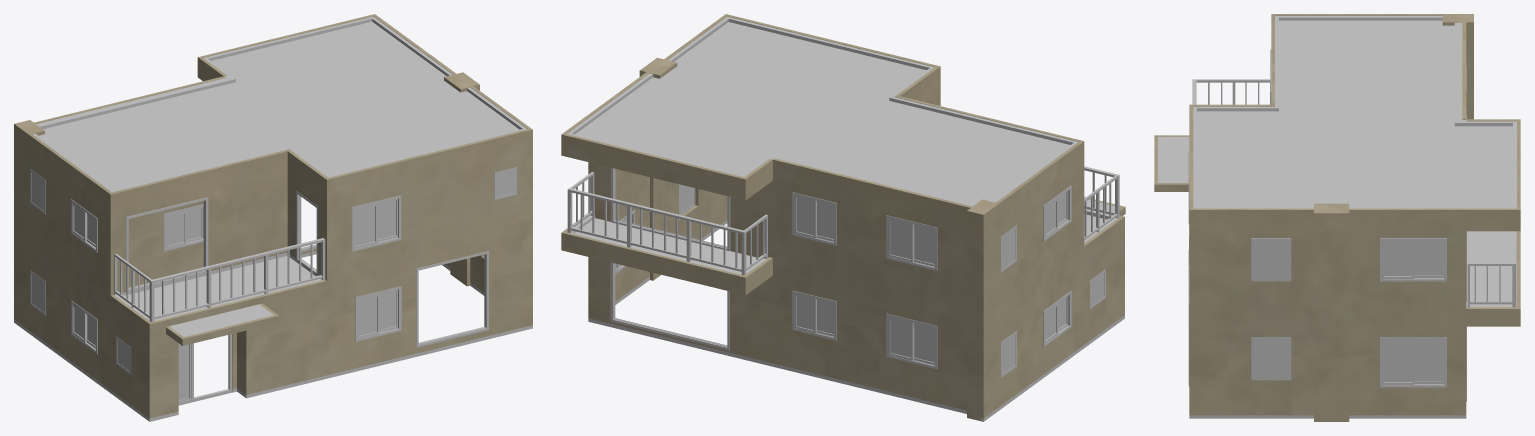
Rendered from JpHouse_22a.fbx.
The picture shows the model from 3 angles, left to right: view 1: azimuth 30°, elevation 25°; view 2: azimuth 150°, elevation 25°; view 3: azimuth 270°, elevation 25°; orthographic projection. The views are drawn at different scales.
Visible parts, largest first — view 1: JpHouse_22a; view 2: JpHouse_22a; view 3: JpHouse_22a.
Part boxes in pixels (x1,y1,x2,y2): JpHouse_22a: [14, 14, 532, 421]; JpHouse_22a: [561, 14, 1125, 421]; JpHouse_22a: [1154, 14, 1520, 421].
Size of the model in its own units: 12.12 by 5.9 by 9.4.
